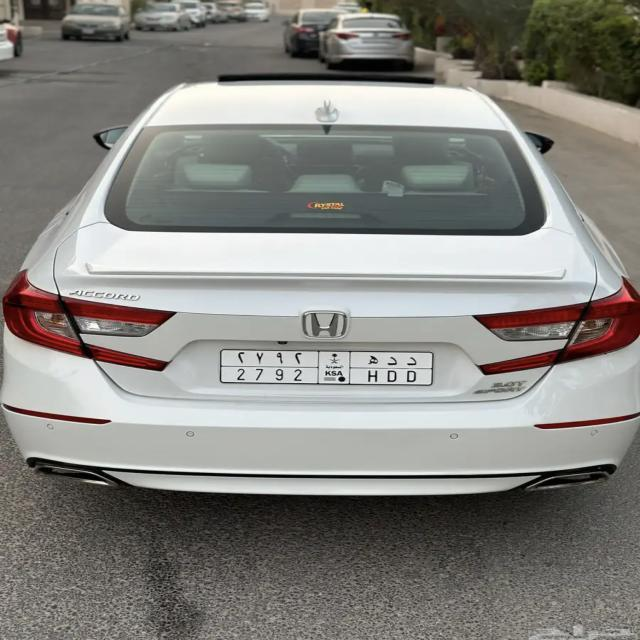license_plate: (220, 348, 436, 390)
